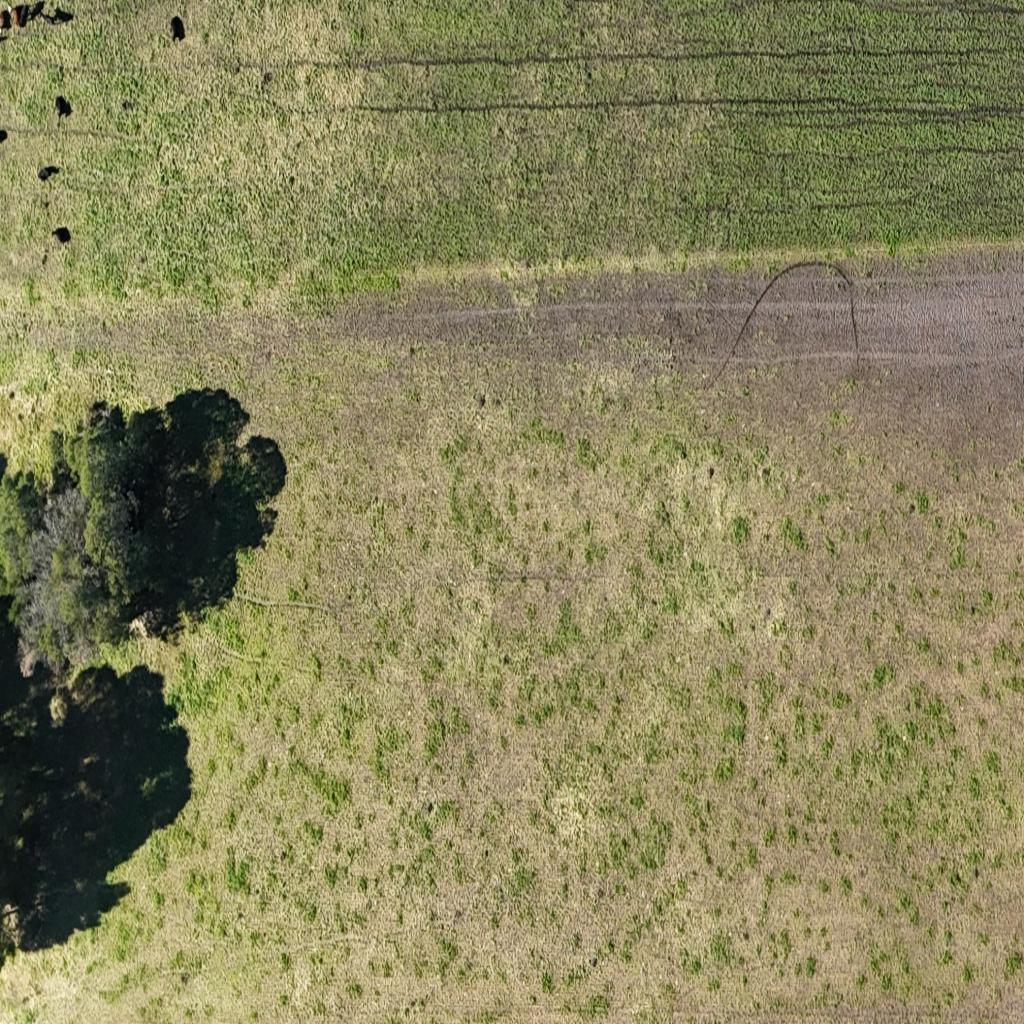cow: (169, 15, 185, 45), (52, 224, 72, 246), (38, 163, 59, 182), (54, 94, 67, 119), (8, 5, 20, 30), (18, 4, 30, 28), (0, 8, 12, 32), (40, 10, 55, 25)
